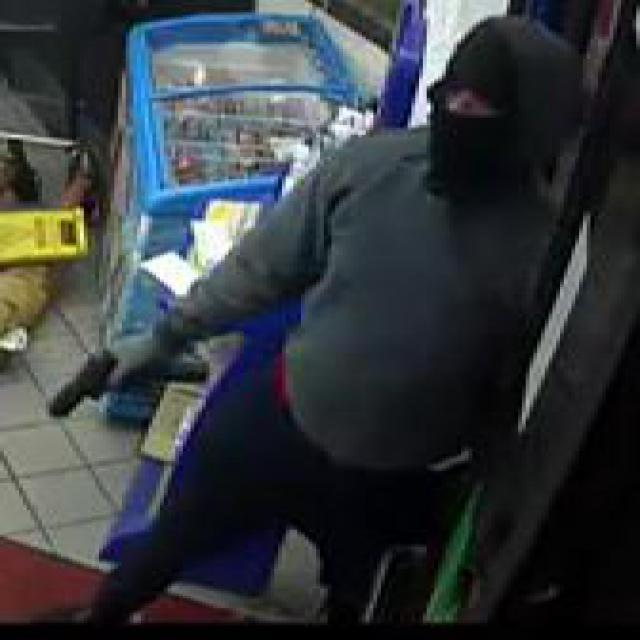weapon: (42, 350, 212, 420)
